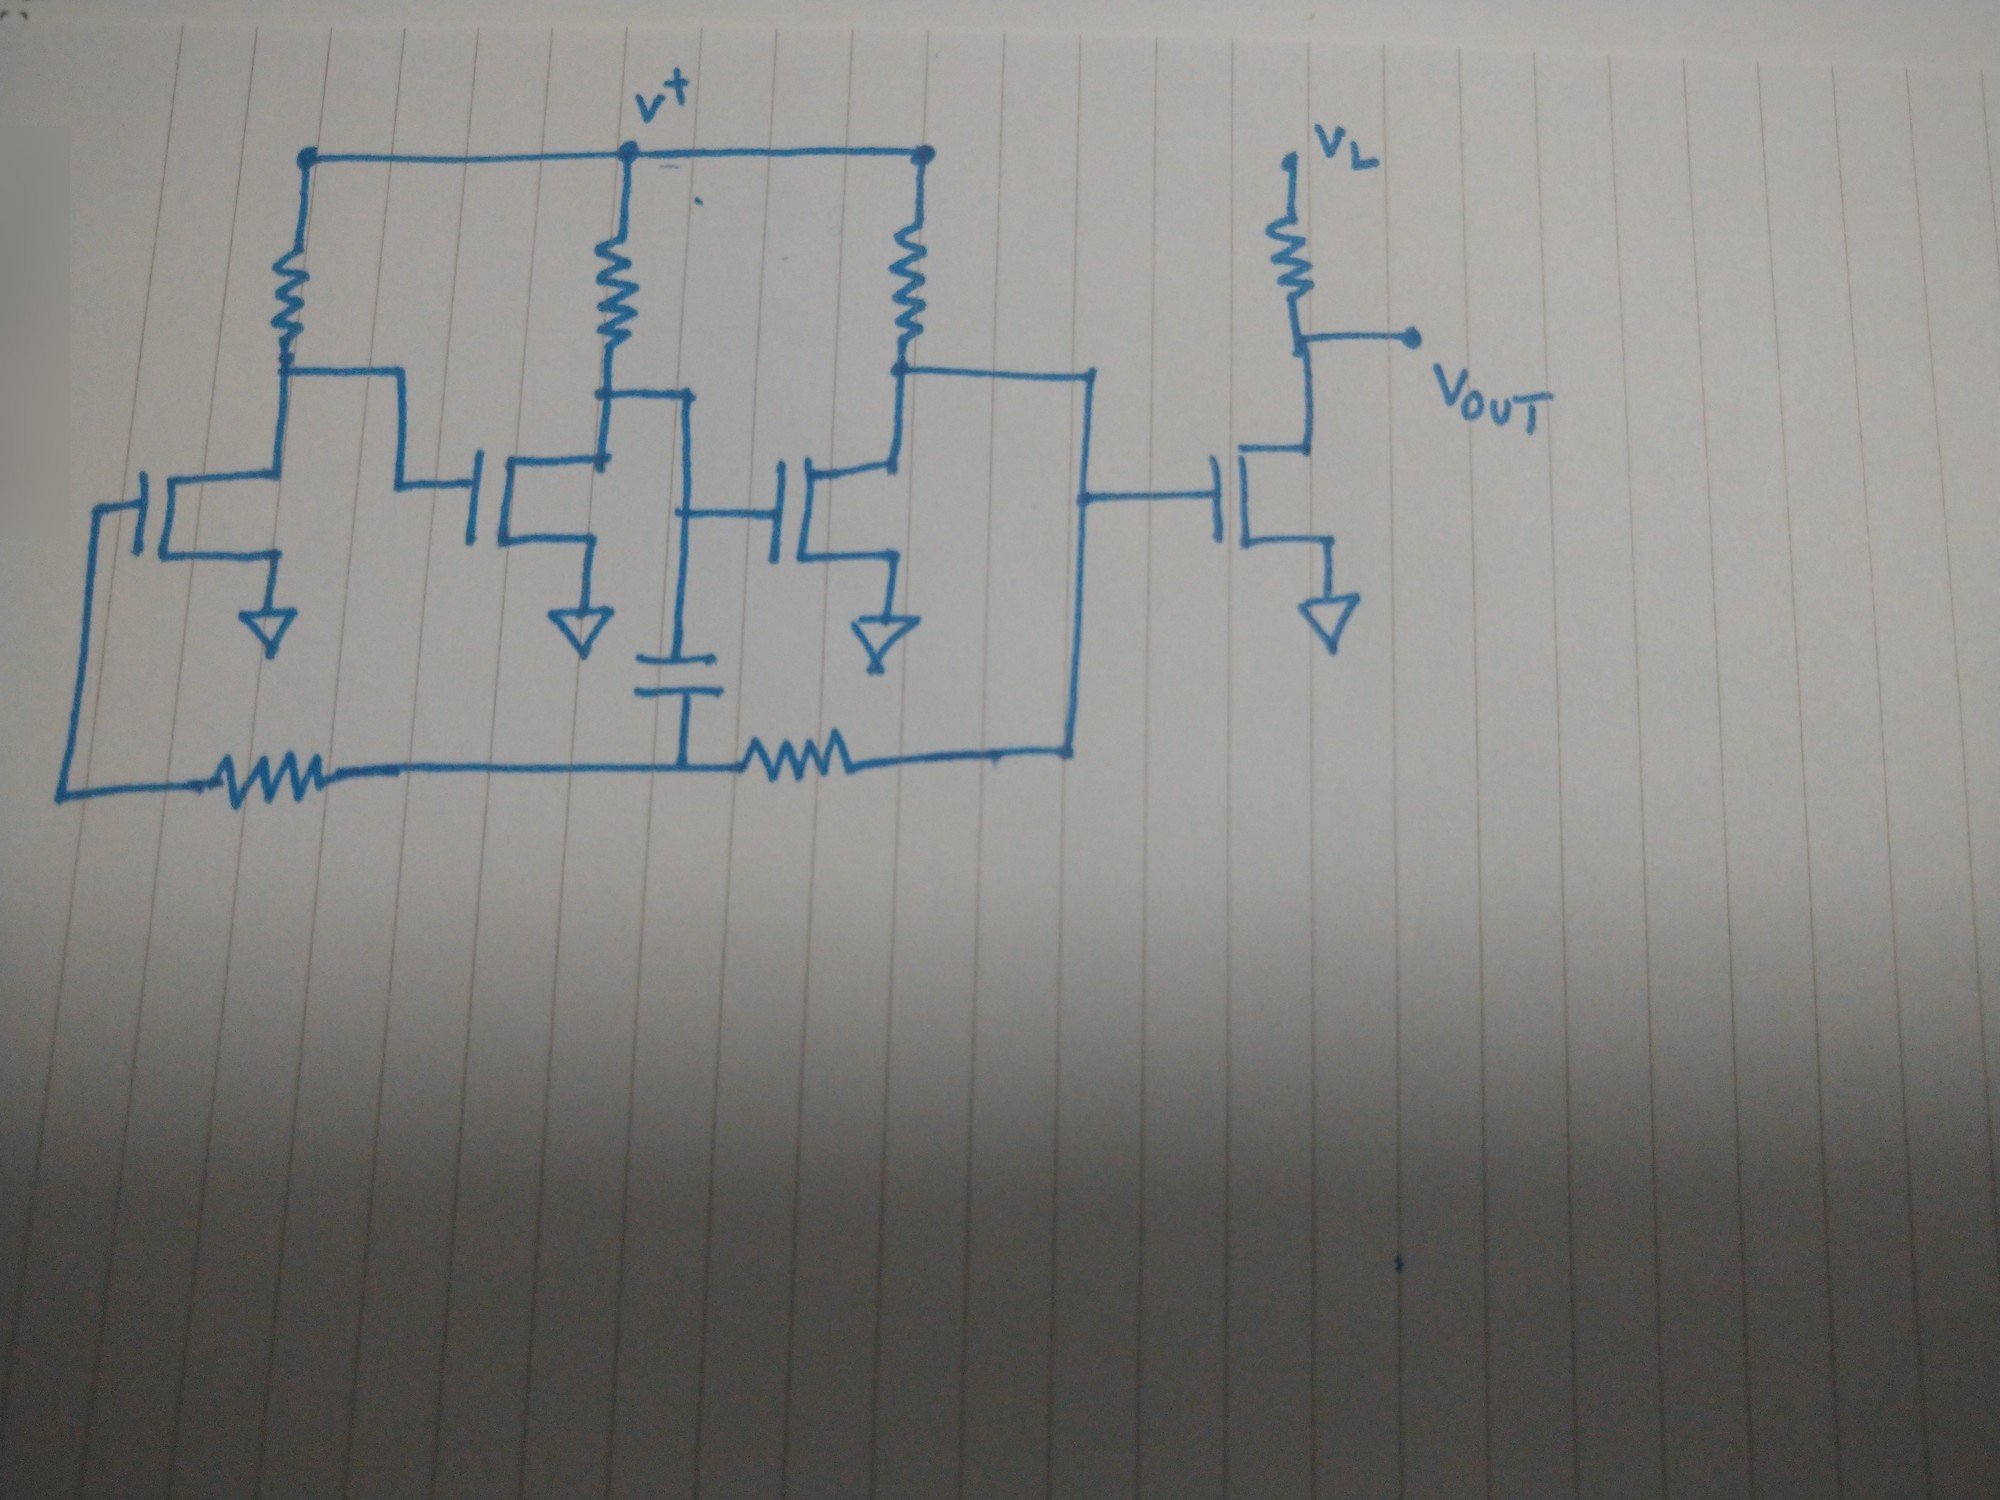capacitor.unpolarized: (620, 646, 734, 707)
gnd: (1294, 589, 1365, 660)
junction: (906, 139, 943, 176), (1287, 328, 1321, 362), (614, 136, 647, 169), (887, 355, 918, 388), (1072, 484, 1102, 515), (294, 140, 324, 170), (1057, 742, 1087, 772), (1077, 362, 1107, 392), (592, 381, 624, 407), (676, 503, 701, 529), (391, 359, 413, 389), (676, 384, 698, 410), (671, 755, 693, 780), (387, 477, 413, 498), (91, 499, 112, 523), (52, 786, 72, 808), (279, 362, 299, 383)
resistor: (205, 748, 342, 819), (587, 227, 652, 366), (737, 726, 861, 791), (885, 217, 943, 350), (1258, 197, 1320, 314), (269, 235, 321, 353)
terminal: (849, 611, 931, 679), (542, 600, 619, 670), (236, 603, 310, 666), (1398, 321, 1436, 356), (1276, 148, 1309, 180)
text: (1428, 359, 1553, 444), (625, 58, 699, 129), (1313, 118, 1387, 176)
transistor: (762, 447, 931, 574), (1198, 430, 1361, 558), (128, 455, 298, 572), (460, 443, 624, 558)
